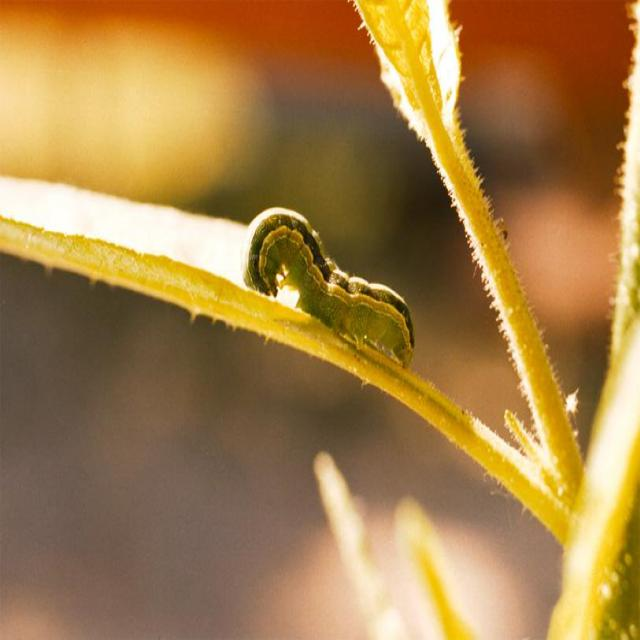BeetArmyWorm-Larva-: (238, 201, 417, 375)
